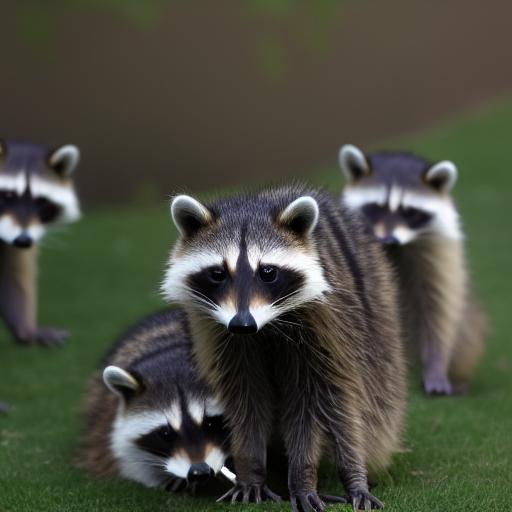raccoon: (154, 174, 419, 492), (329, 131, 491, 403), (74, 300, 259, 501), (0, 128, 97, 358)
